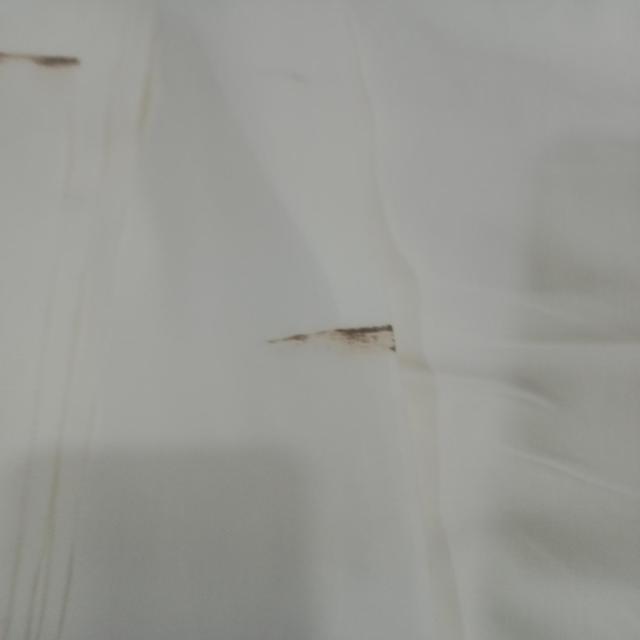stain: (260, 318, 409, 358), (0, 42, 87, 72)
